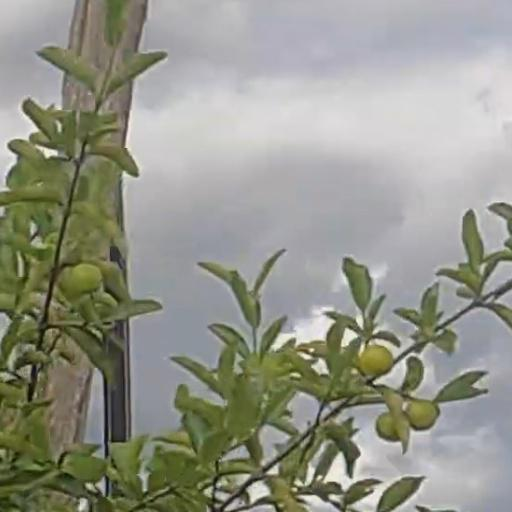acerola: (360, 345, 391, 378), (408, 401, 436, 428)
